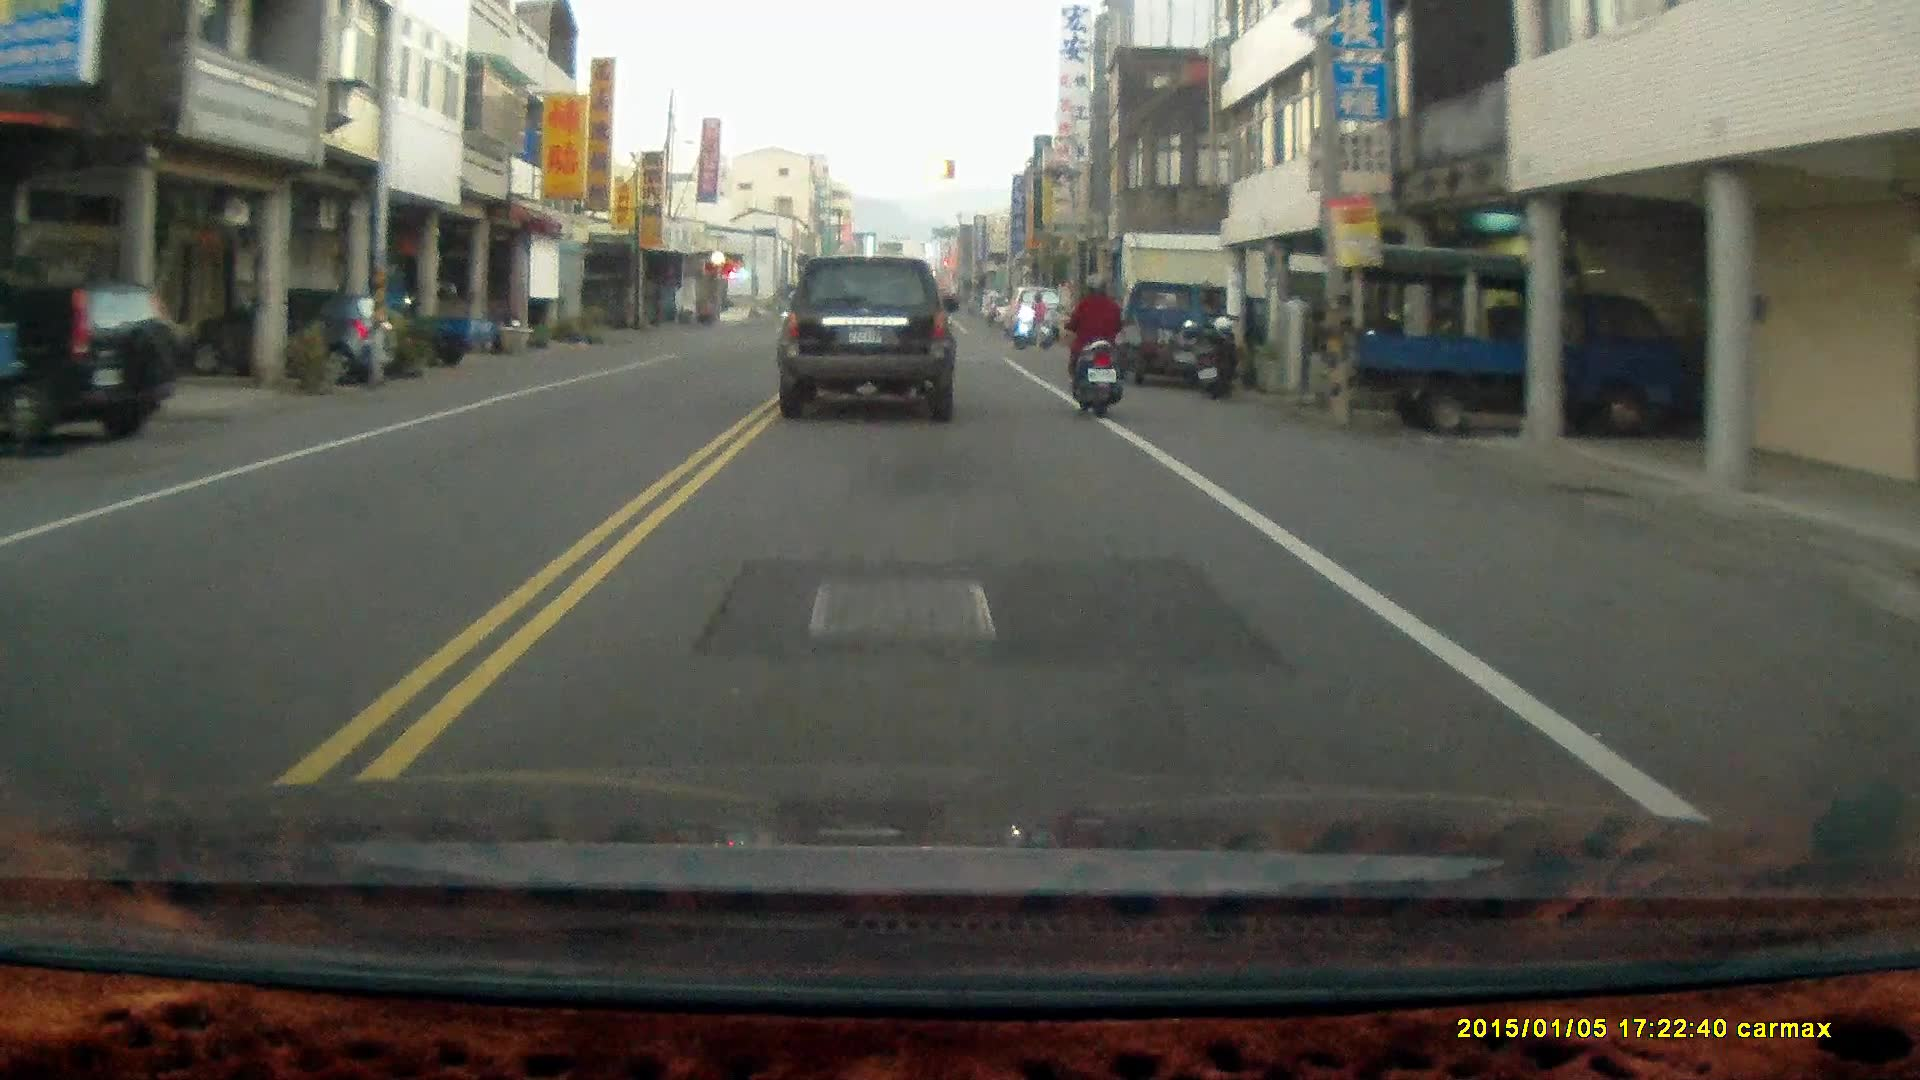rider: (1069, 267, 1125, 418), (1008, 291, 1050, 348)
vehicle: (1337, 244, 1691, 434), (1, 277, 187, 459), (776, 254, 958, 424), (183, 286, 396, 382), (1107, 271, 1240, 383)
